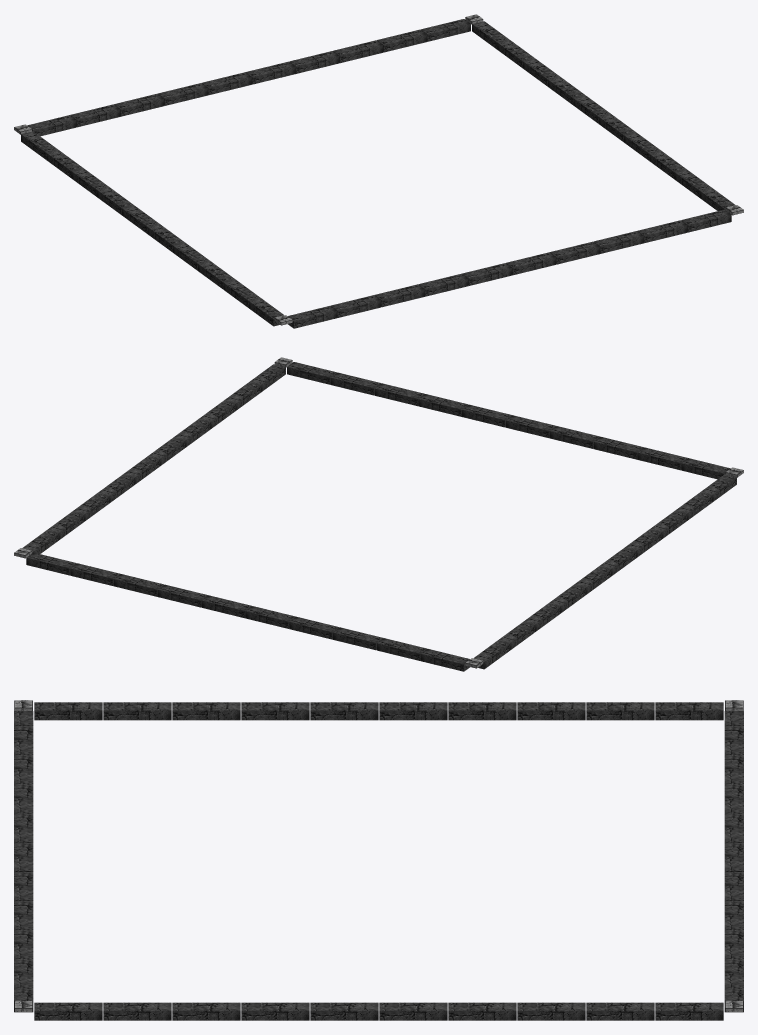
The model's file is frame_10.glb.
The picture shows the model from 3 angles, top to bottom: view 1: azimuth 30°, elevation 25°; view 2: azimuth 150°, elevation 25°; view 3: azimuth 270°, elevation 25°; orthographic projection. The views are drawn at different scales.
Visible parts, largest first — view 1: Border block.057, Border block.075, Border block.079, Border block.091, Border block.065, Border block.067, Border block.069, Border block.093, Border block.081, Border block.083, Border block.063, Border block.087 (+9 smaller); view 2: Border block.077, Border block.059, Border block.071, Border block.095, Border block.073, Border block.085, Border block.087, Border block.089, Border block.061, Border block.063, Border block.067, Border block.083 (+9 smaller); view 3: Border block.056, Border block.058, Border block.060, Border block.062, Border block.064, Border block.066, Border block.068, Border block.070, Border block.072, Border block.074, Border block.076, Border block.078 (+28 smaller).
Part boxes in pixels (bbox=[...]): Border block.057: bbox=[288, 306, 337, 328]; Border block.075: bbox=[681, 209, 731, 232]; Border block.079: bbox=[70, 104, 120, 127]; Border block.091: bbox=[333, 40, 383, 63]; Border block.065: bbox=[462, 263, 512, 285]; Border block.067: bbox=[506, 252, 556, 275]; Border block.069: bbox=[549, 241, 600, 264]; Border block.093: bbox=[377, 29, 427, 52]; Border block.081: bbox=[114, 93, 164, 116]; Border block.083: bbox=[158, 83, 208, 105]; Border block.063: bbox=[418, 273, 468, 296]; Border block.087: bbox=[245, 61, 295, 84]; Border block.077: bbox=[420, 649, 469, 671]; Border block.059: bbox=[637, 447, 687, 470]; Border block.071: bbox=[374, 383, 424, 406]; Border block.095: bbox=[26, 552, 76, 575]; Border block.073: bbox=[330, 372, 380, 395]; Border block.085: bbox=[245, 606, 295, 628]; Border block.087: bbox=[201, 595, 251, 618]; Border block.089: bbox=[157, 584, 208, 607]; Border block.061: bbox=[593, 436, 643, 459]; Border block.063: bbox=[549, 426, 599, 448]; Border block.067: bbox=[462, 404, 512, 427]; Border block.083: bbox=[289, 616, 339, 639]; Border block.056: bbox=[34, 702, 102, 720]; Border block.058: bbox=[103, 702, 171, 720]; Border block.060: bbox=[172, 702, 240, 720]; Border block.062: bbox=[241, 702, 309, 720]; Border block.064: bbox=[310, 702, 378, 720]; Border block.066: bbox=[379, 702, 447, 720]; Border block.068: bbox=[448, 702, 516, 720]; Border block.070: bbox=[517, 702, 585, 720]; Border block.072: bbox=[586, 702, 654, 720]; Border block.074: bbox=[655, 702, 723, 720]; Border block.076: bbox=[34, 1002, 102, 1020]; Border block.078: bbox=[103, 1002, 171, 1020].
Size of the model in its own units: 10.58 by 0.2 by 10.58.
Materials: 2 (1 with a texture image).
